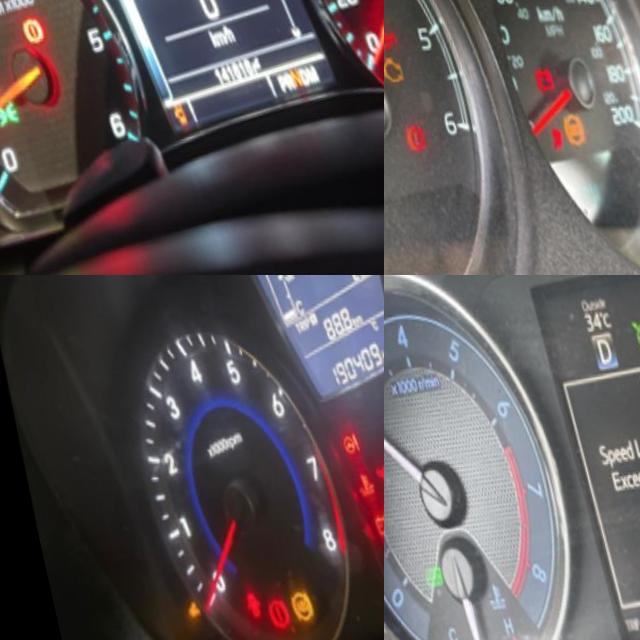Doors: (221, 590, 246, 629)
Engine cooling system: (338, 477, 362, 505)
